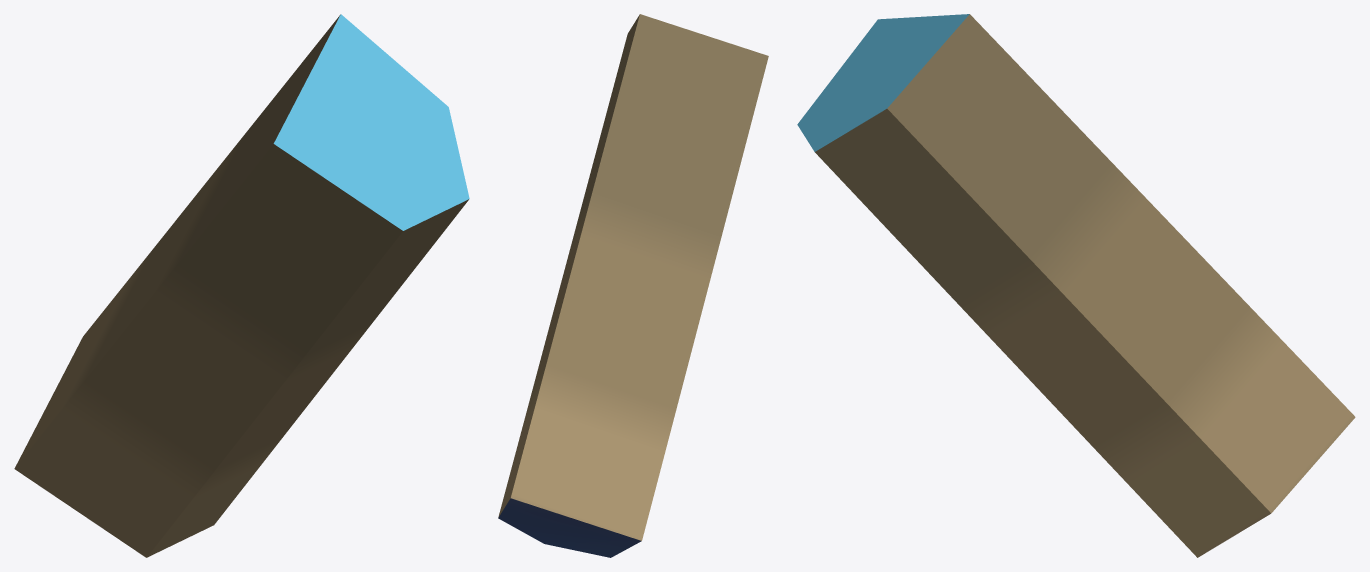
The model's file is 066c_Andorra.glb.
The picture shows the model from 3 angles, left to right: view 1: azimuth 30°, elevation 25°; view 2: azimuth 150°, elevation 25°; view 3: azimuth 270°, elevation 25°; orthographic projection. The views are drawn at different scales.
Visible parts, largest first — view 1: part_0; view 2: part_0; view 3: part_0.
Boxes of the visible parts, x1=… form: part_0: x1=14, y1=14, x2=469, y2=557; part_0: x1=498, y1=14, x2=768, y2=557; part_0: x1=797, y1=14, x2=1355, y2=557.
Size of the model in its own units: 0.0778 by 0.2001 by 0.184.
1 material, 1 textured.
